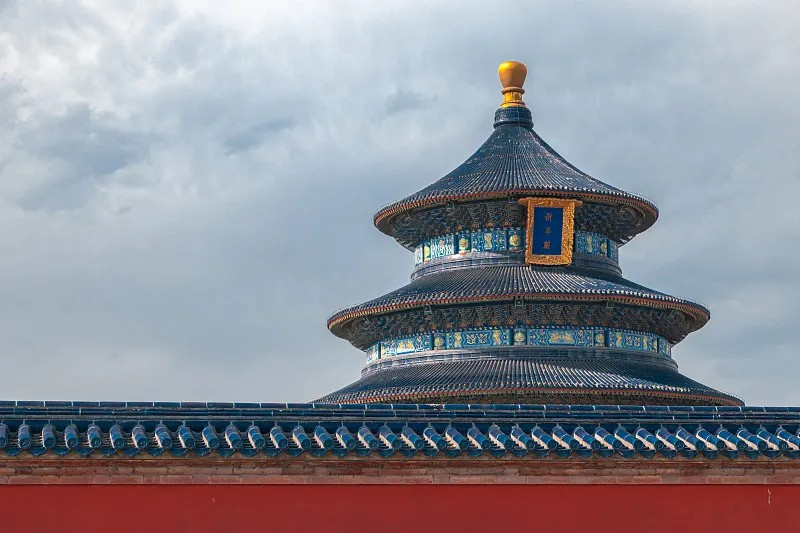Heaven: (304, 61, 747, 409)
